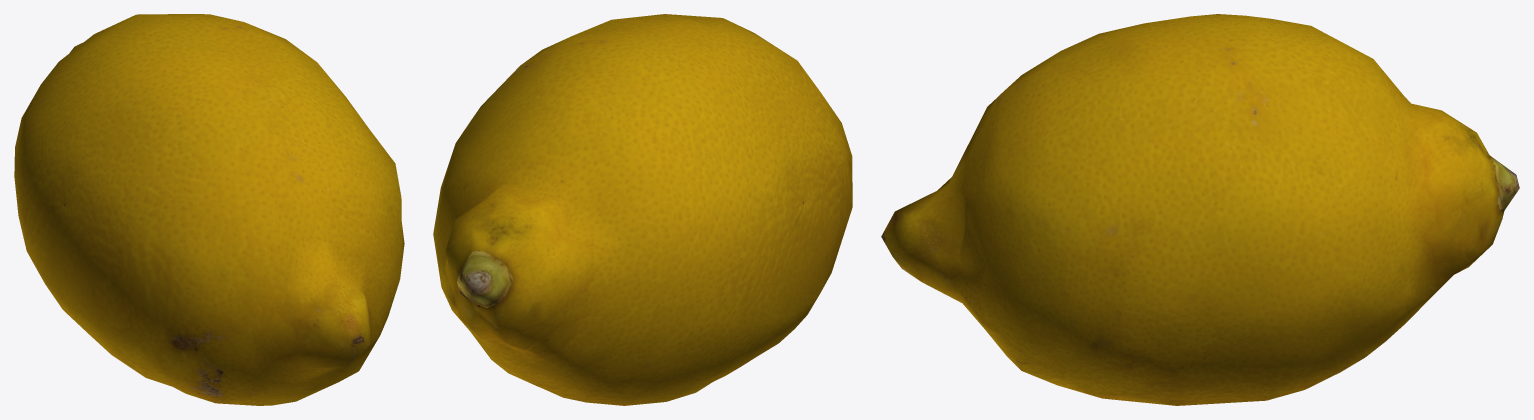
Rendered from lemon.glb.
3 views of the same model, side by side, from view 1: azimuth 30°, elevation 25°; view 2: azimuth 150°, elevation 25°; view 3: azimuth 270°, elevation 25° (orthographic). The views are drawn at different scales.
Visible parts, largest first — view 1: Lemon; view 2: Lemon; view 3: Lemon.
Boxes of the visible parts, box(x1,y1,x2,y2) form: Lemon: box(14, 14, 404, 405); Lemon: box(433, 14, 852, 405); Lemon: box(881, 14, 1519, 405).
Size of the model in its own units: 0.3153 by 0.3193 by 0.5334.
1 material, 1 textured.
